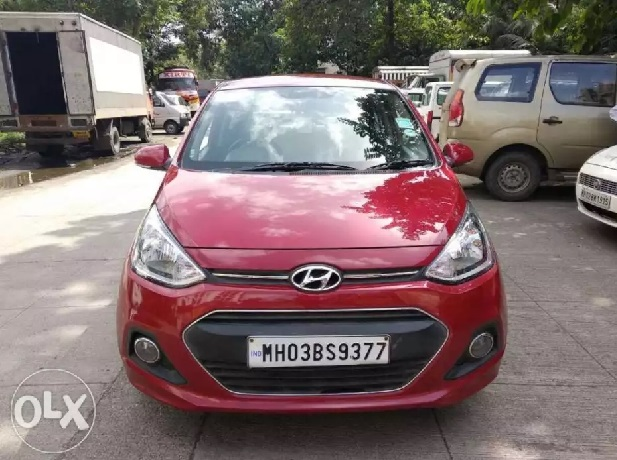licenseplate: (245, 332, 392, 368)
